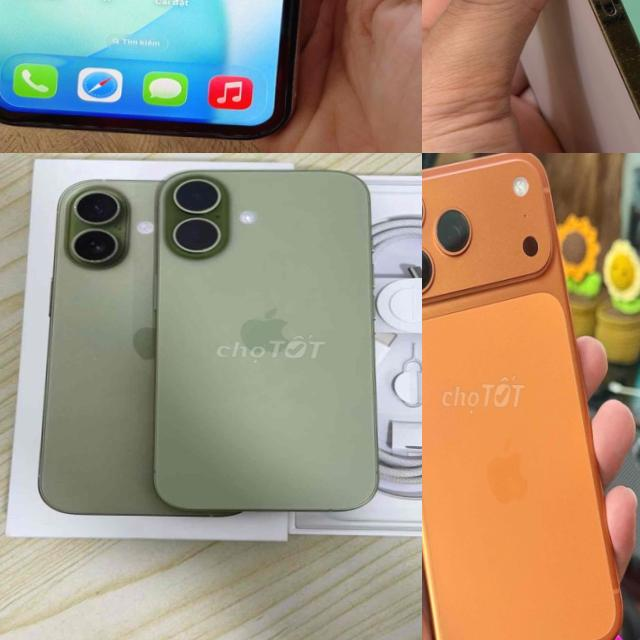gen_11: (0, 0, 314, 144)
gen_12_13: (422, 0, 640, 153)
gen_17: (153, 164, 394, 524)
scratch: (422, 153, 635, 640), (493, 0, 640, 63)
